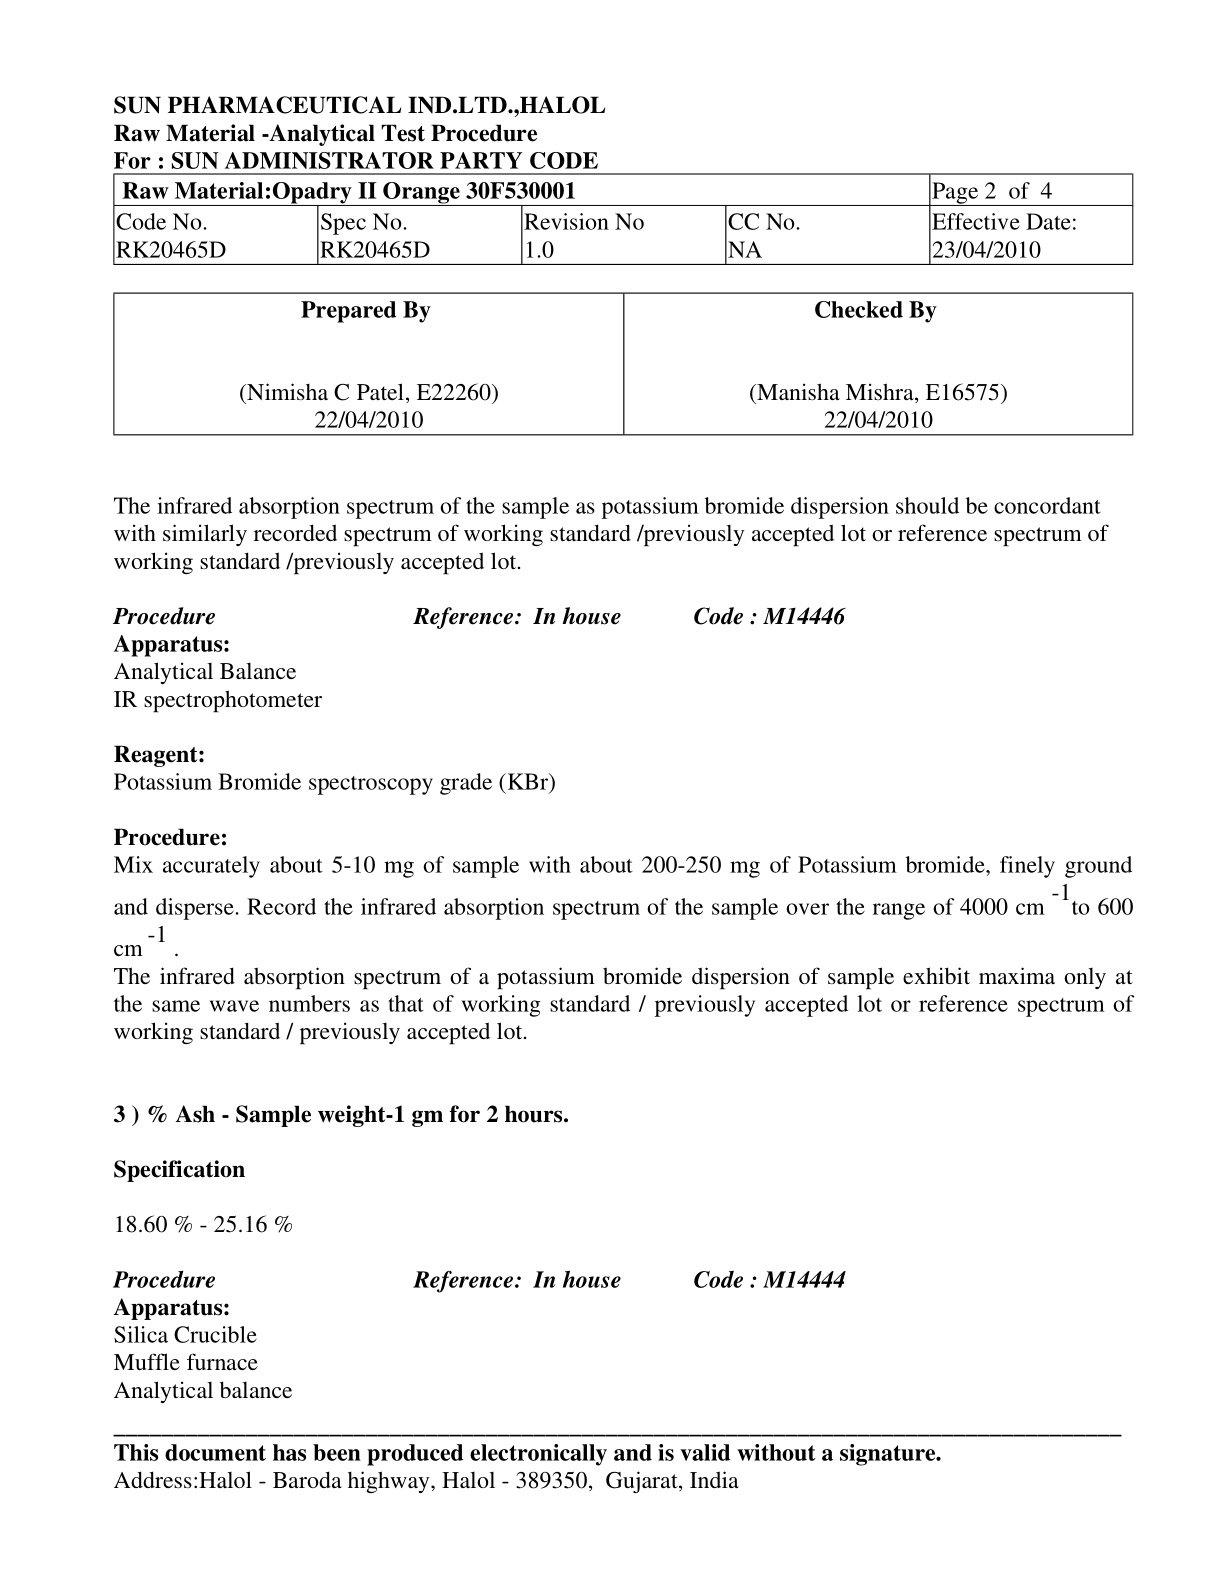full_lined: (112, 292, 1134, 437)
merged_cells: (112, 174, 1134, 266)
